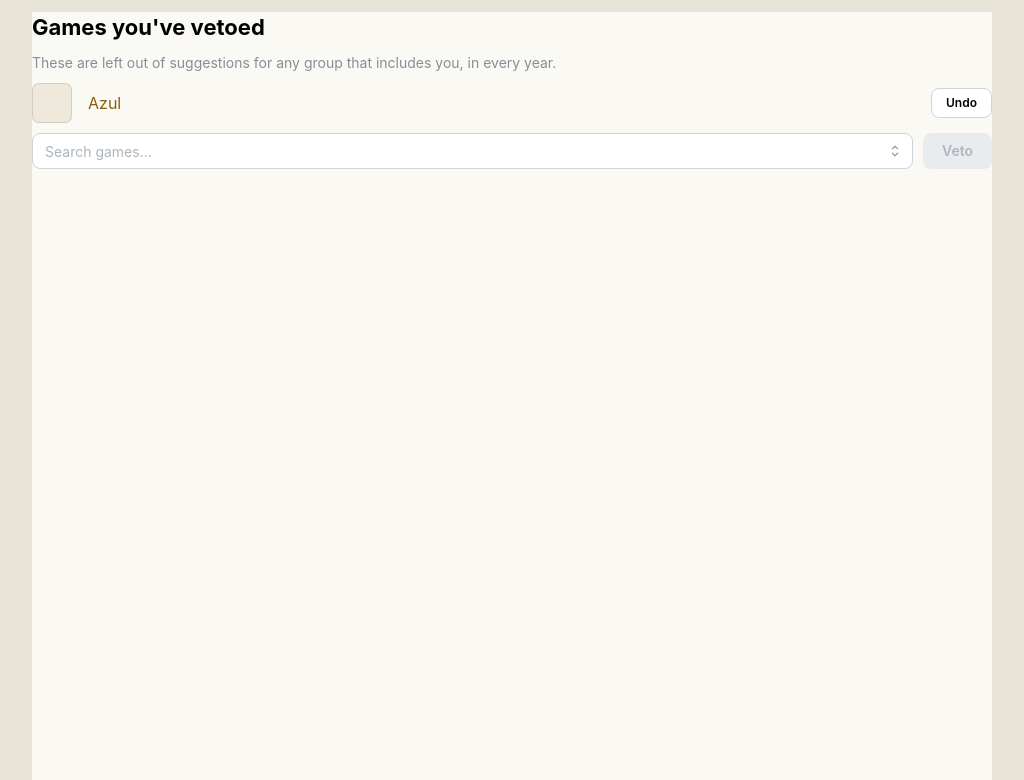
Test: ProfileVetoes › does not offer games already vetoed
The width and height of the screenshot is (1024, 780).
Click the dropdown named "Game to veto": (472, 151) [32,133,913,169]
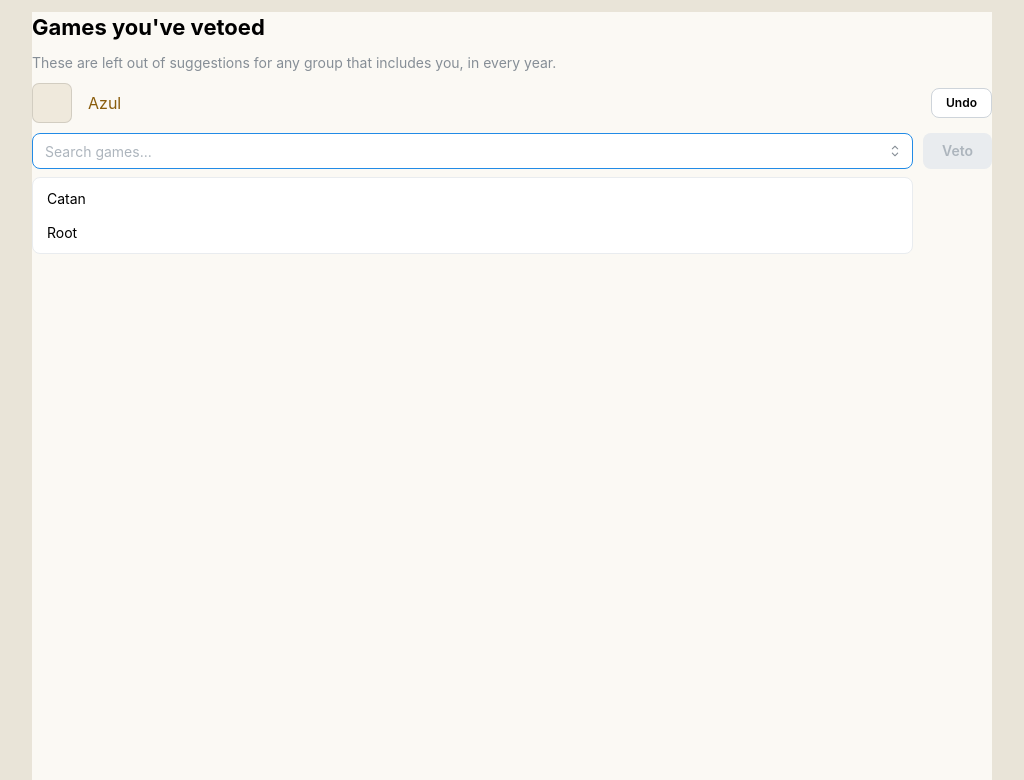
Expected: the option "Catan" is shown, [47,190,86,207]
